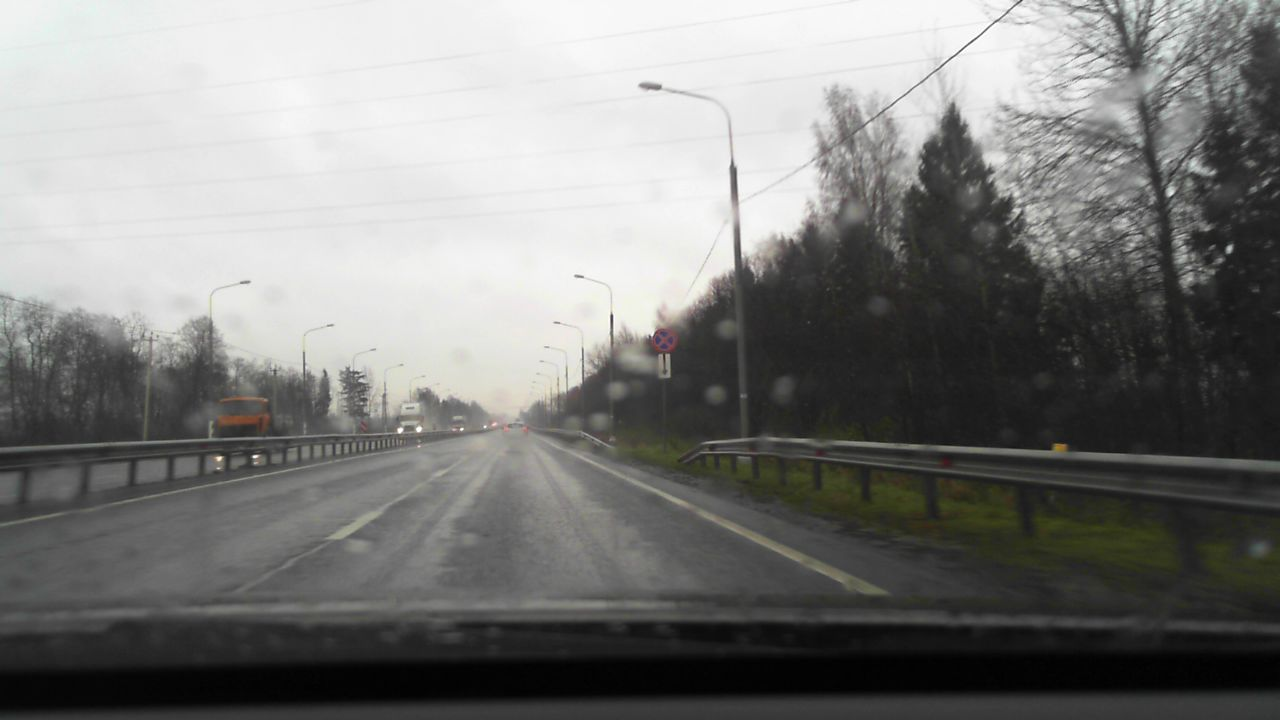No Parking: (651, 328, 677, 353)
